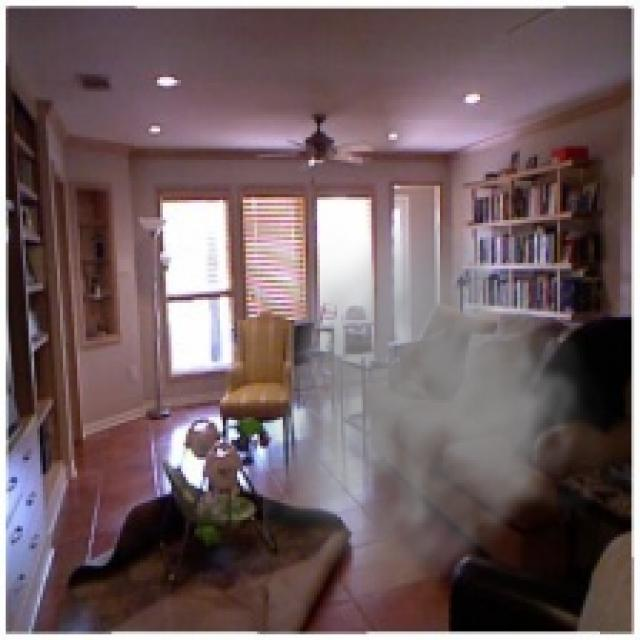smoke: (263, 200, 620, 614)
